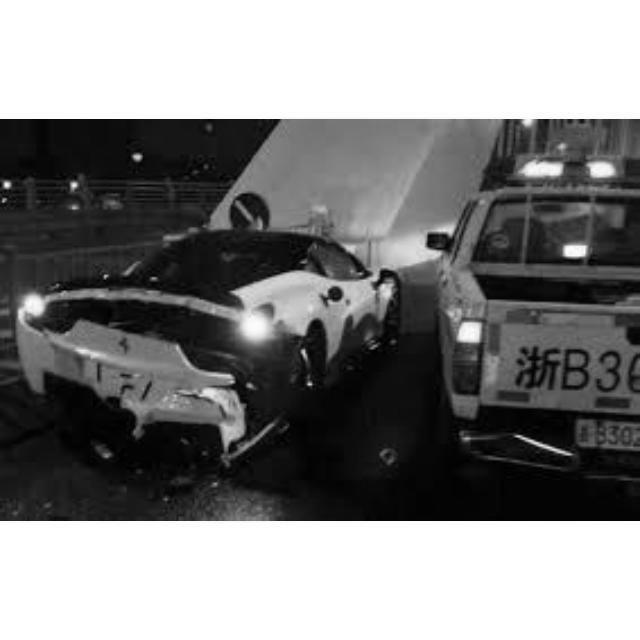rear-bumper-dent: (62, 284, 227, 388)
